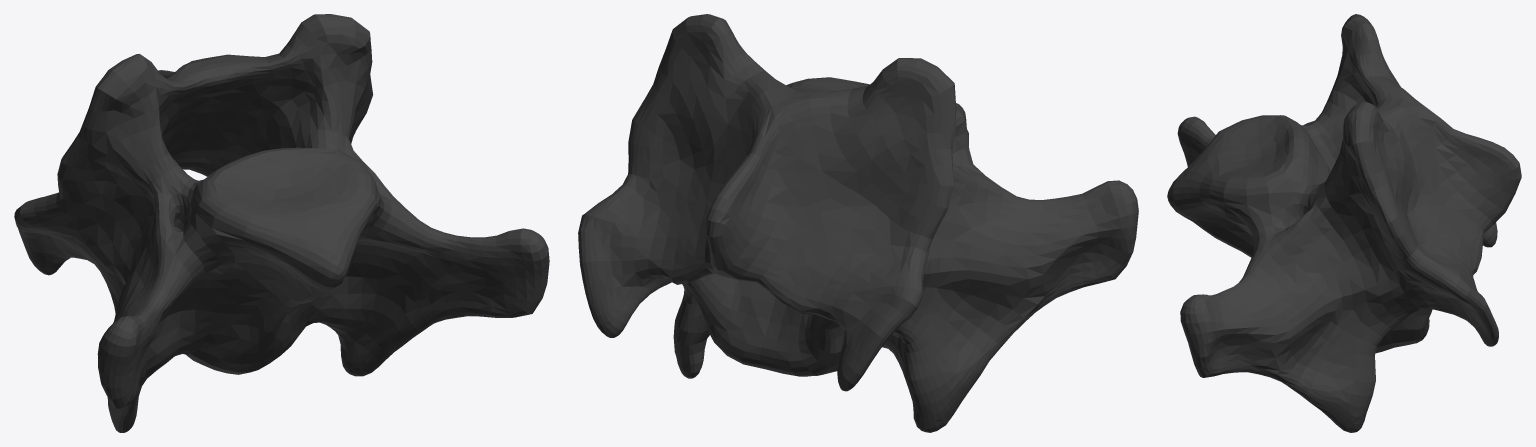
3 renders of one model, left to right at view 1: azimuth 30°, elevation 25°; view 2: azimuth 150°, elevation 25°; view 3: azimuth 270°, elevation 25°, orthographic. The views are drawn at different scales.
Parts seen in each view (by area): view 1: B_C5; view 2: B_C5; view 3: B_C5.
Part boxes in pixels (x1=…): B_C5: x1=14, y1=14, x2=549, y2=432; B_C5: x1=578, y1=14, x2=1138, y2=432; B_C5: x1=1167, y1=14, x2=1521, y2=432.
Bounding box in the file's own units: 0.00291 × 0.00229 × 0.0023.
Materials: 1 (1 with a texture image).
